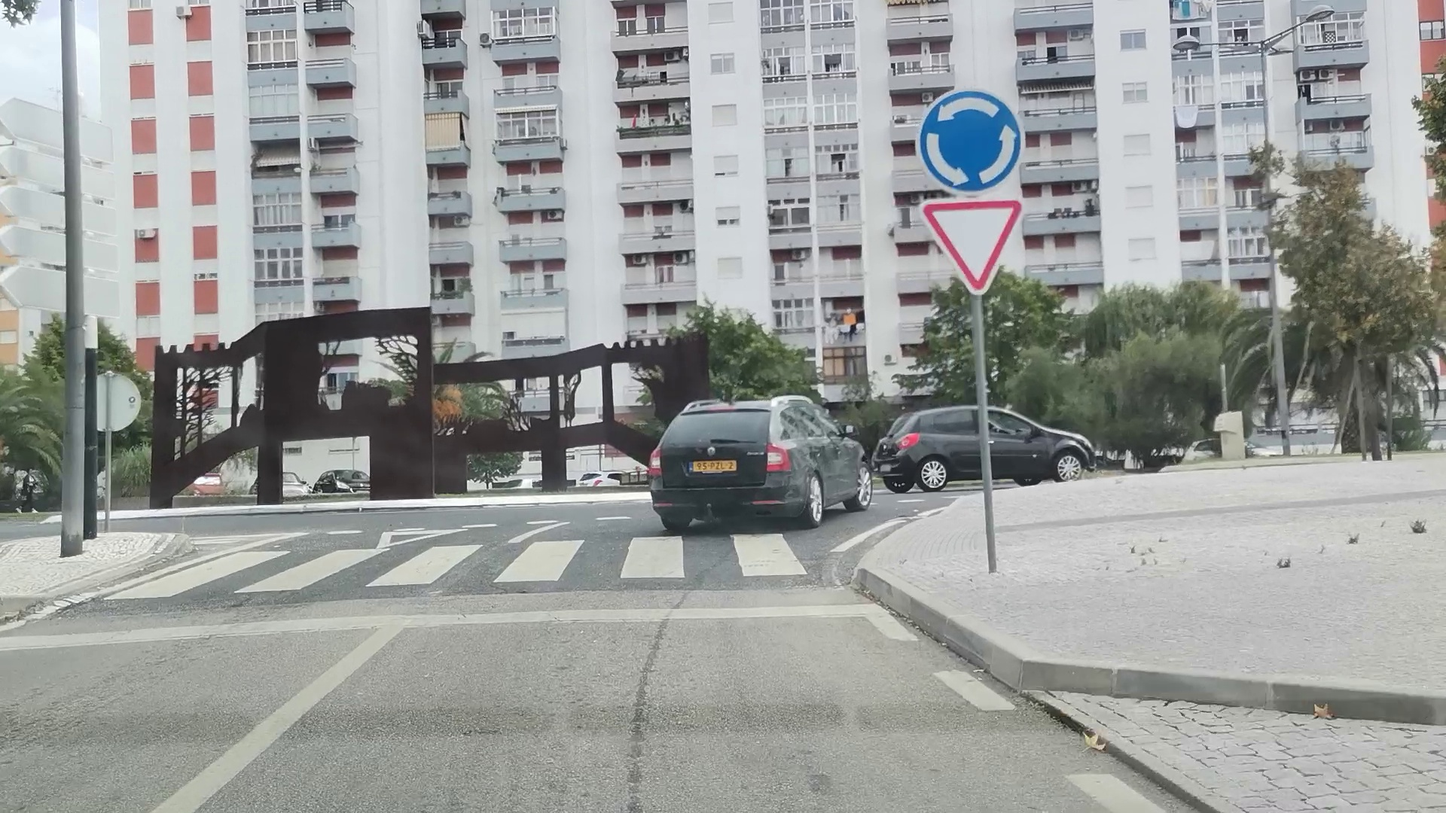Stairs: (102, 532, 833, 601)
